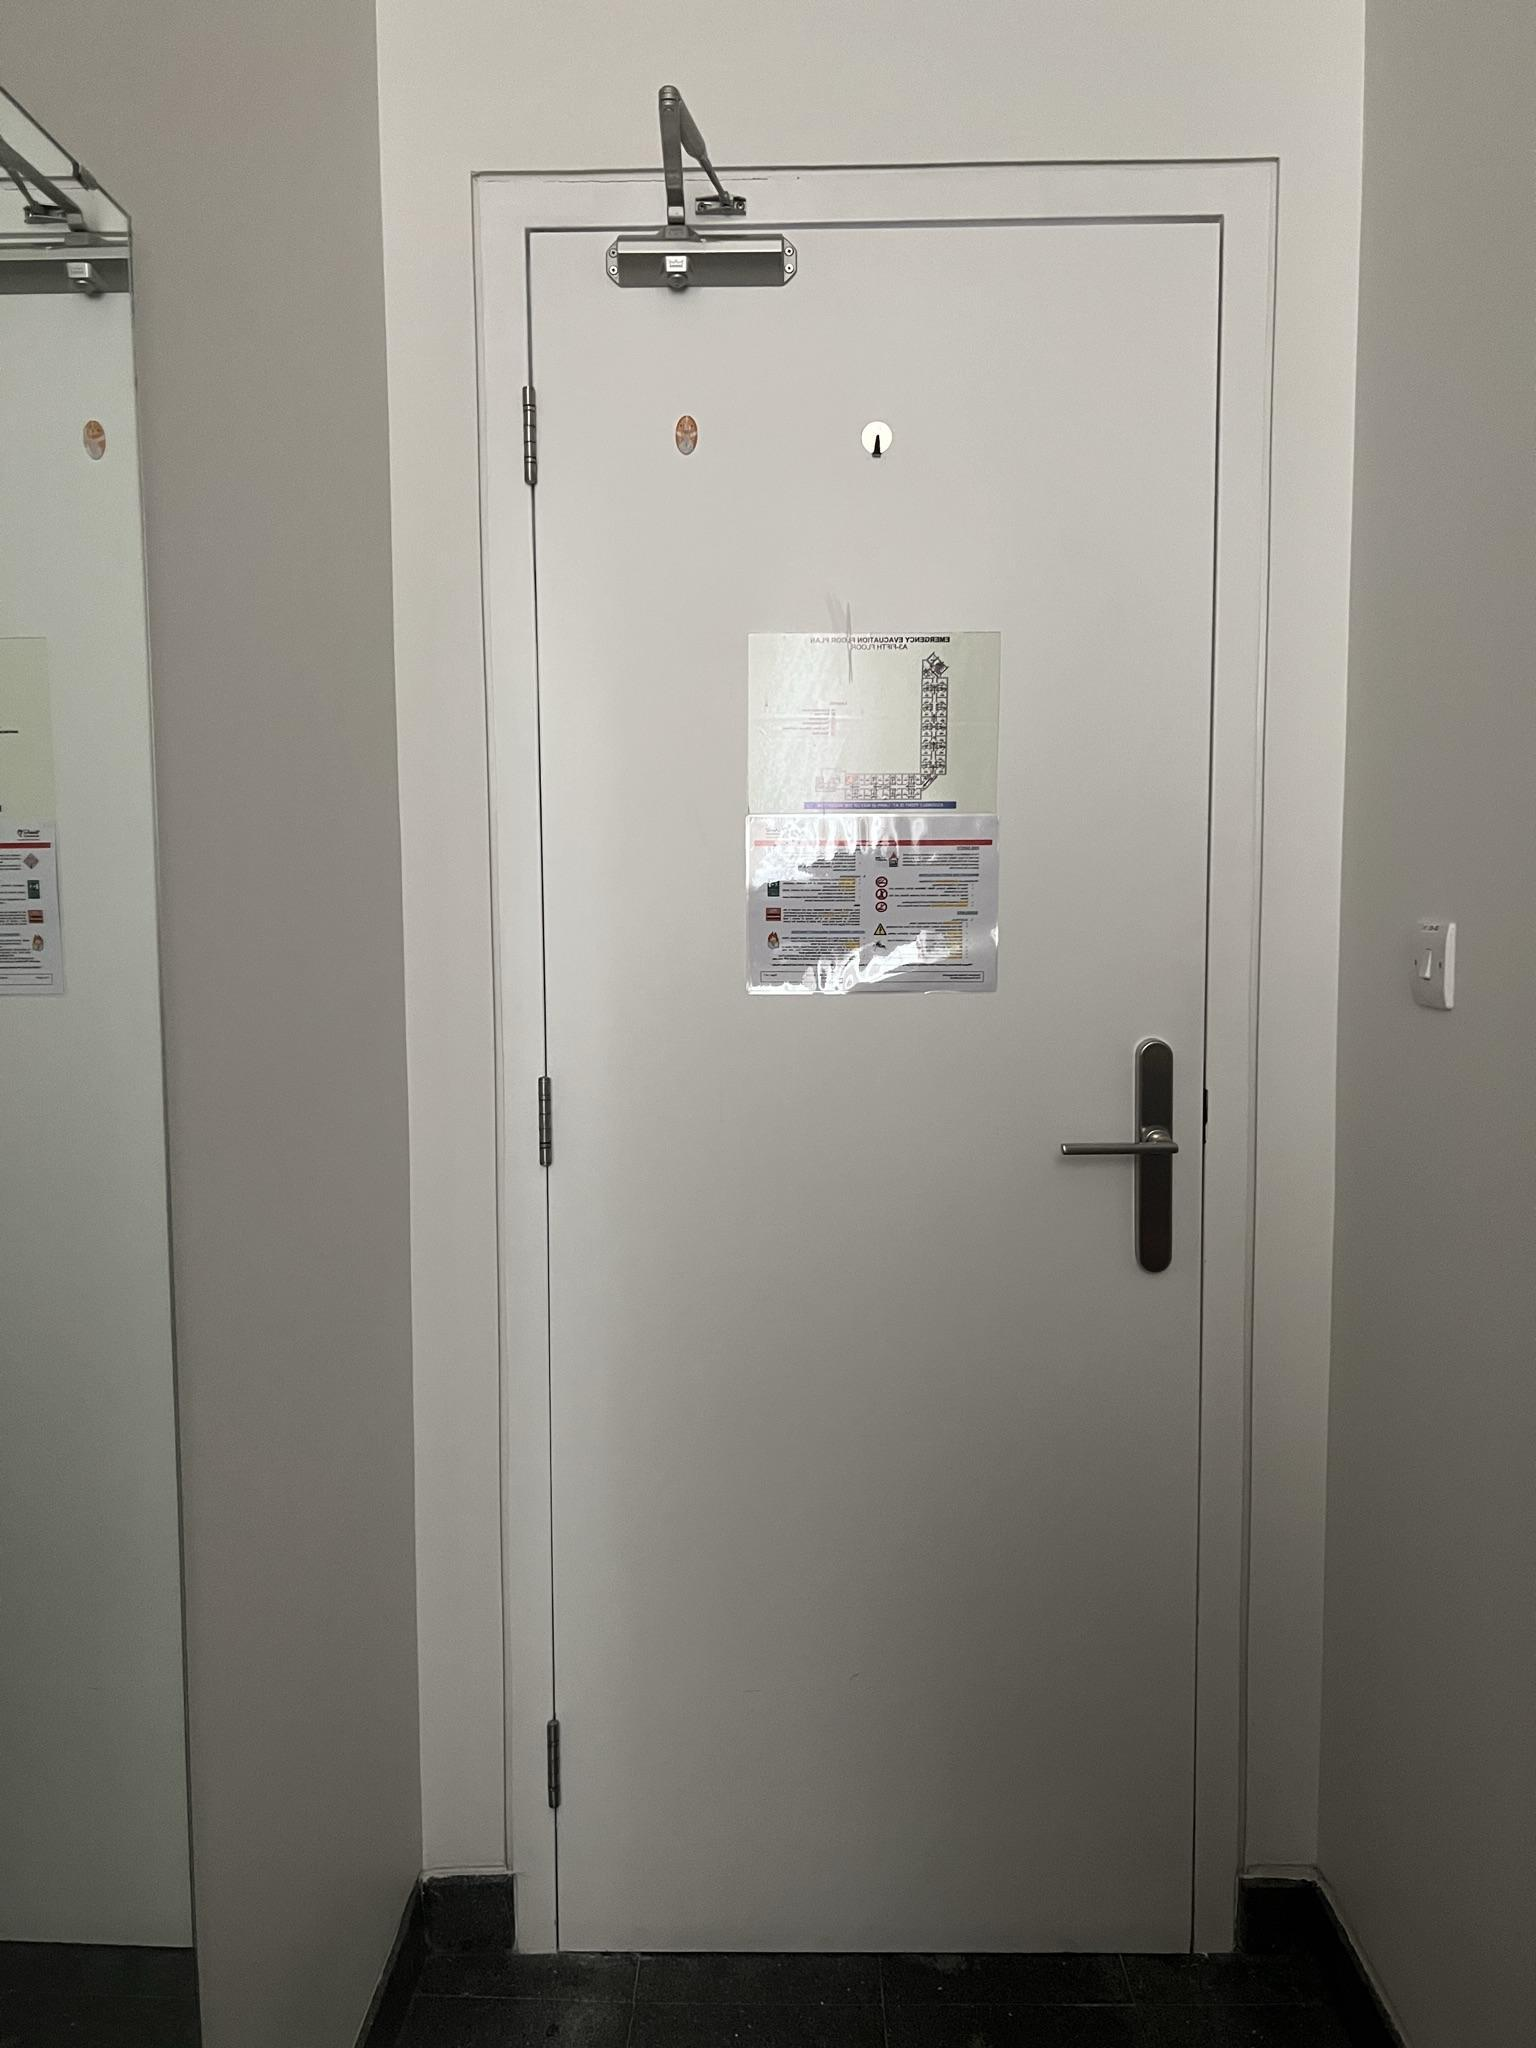door: (555, 206, 1213, 1963)
handle: (1047, 1037, 1175, 1279)
